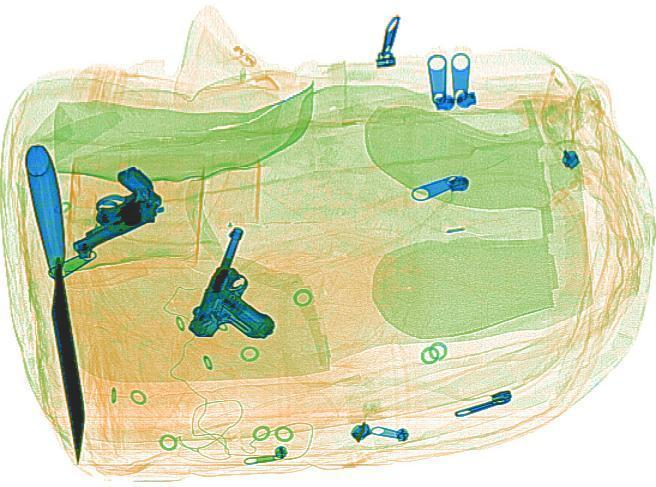Gun: (178, 224, 312, 349), (34, 163, 183, 258)
Knife: (22, 143, 96, 463)
